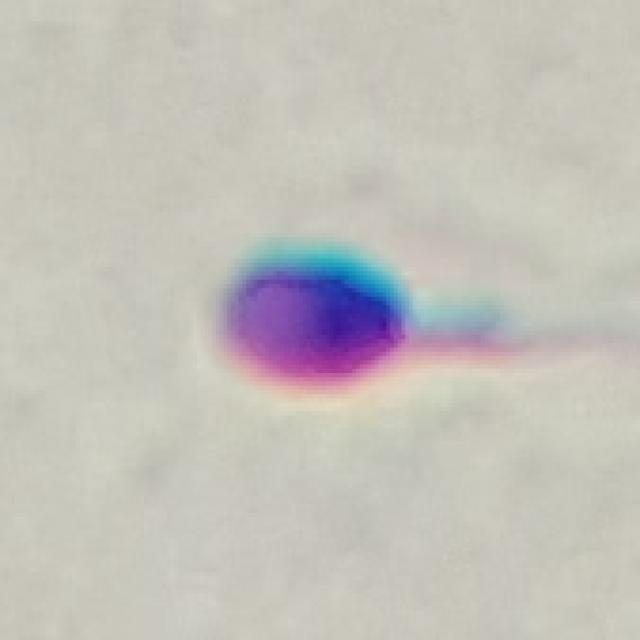normal sperm: (216, 240, 635, 402)
